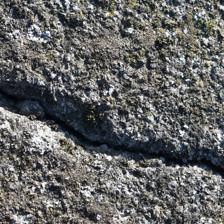Crack: (5, 37, 216, 146)
